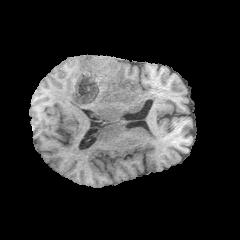glioma: (56, 56, 146, 109)
